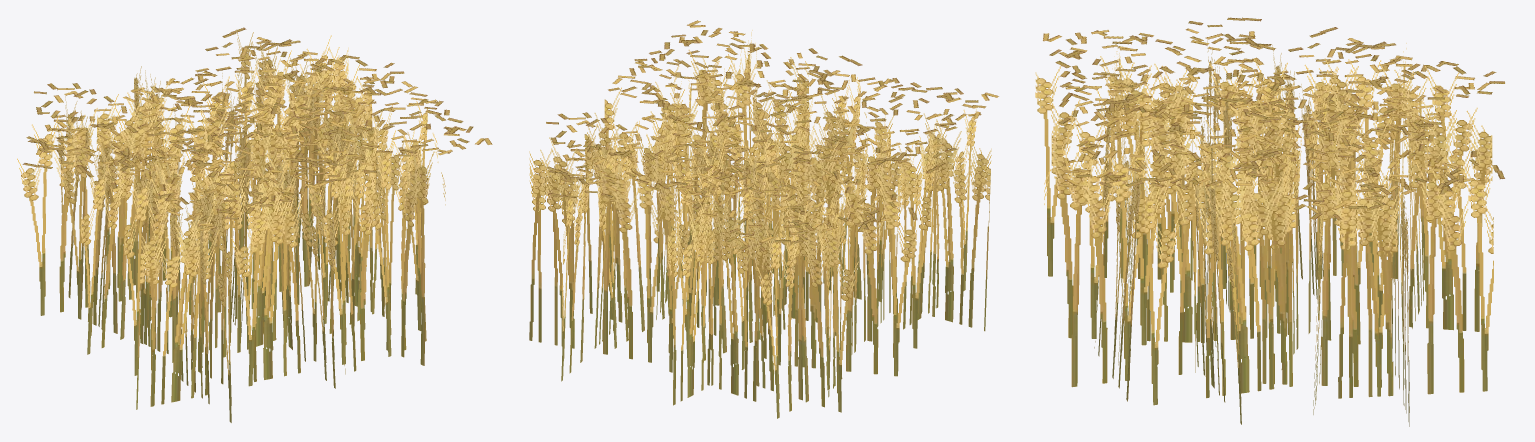
The model's file is crop_wheat.glb.
3 views of the same model, side by side, from view 1: azimuth 30°, elevation 25°; view 2: azimuth 150°, elevation 25°; view 3: azimuth 270°, elevation 25° (orthographic). The views are drawn at different scales.
Visible parts, largest first — view 1: prop; view 2: prop; view 3: prop.
Boxes of the visible parts, bbox=[...] form: prop: bbox=[17, 27, 492, 422]; prop: bbox=[529, 20, 998, 418]; prop: bbox=[1035, 17, 1504, 426].
Bounding box in the file's own units: 1.35 × 0.7391 × 1.29.
2 materials, 2 textured.
